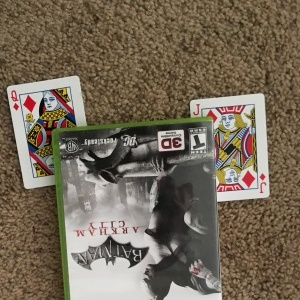card: (6, 75, 88, 191), (189, 92, 270, 204)
